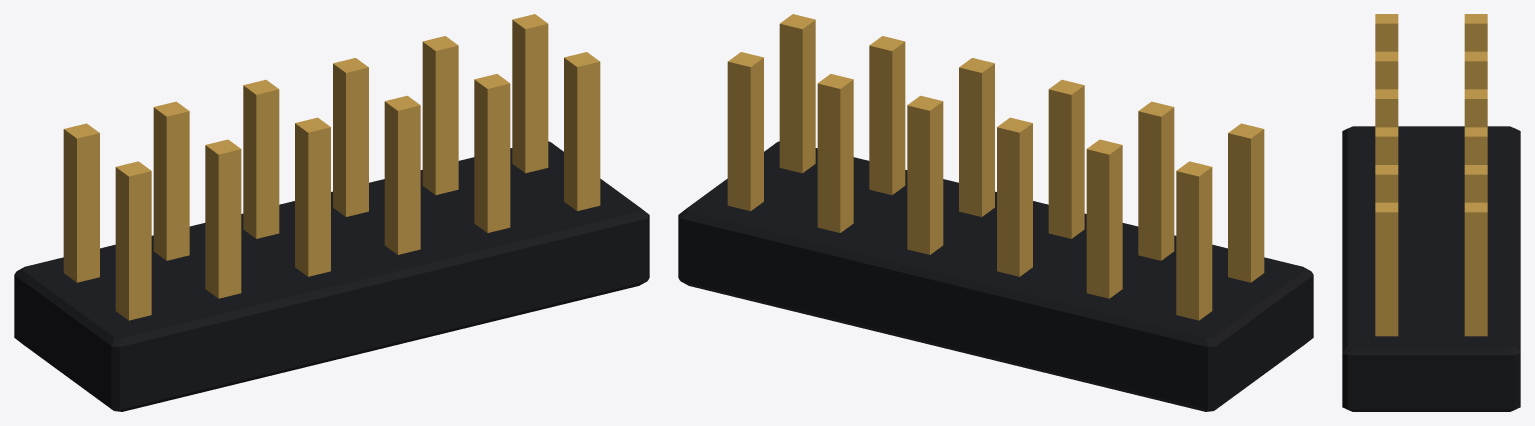
The model's file is L128_SPI_TPM.fbx.
3 views of the same model, side by side, from view 1: azimuth 30°, elevation 25°; view 2: azimuth 150°, elevation 25°; view 3: azimuth 270°, elevation 25° (orthographic). The views are drawn at different scales.
Parts seen in each view (by area): view 1: SPI_TPM__Plastic, SPI_TPM__Gold; view 2: SPI_TPM__Plastic, SPI_TPM__Gold; view 3: SPI_TPM__Plastic, SPI_TPM__Gold.
Boxes of the visible parts, x1=… form: SPI_TPM__Plastic: x1=14, y1=141, x2=649, y2=411; SPI_TPM__Gold: x1=63, y1=14, x2=600, y2=320; SPI_TPM__Plastic: x1=678, y1=141, x2=1313, y2=411; SPI_TPM__Gold: x1=727, y1=14, x2=1264, y2=320; SPI_TPM__Plastic: x1=1342, y1=126, x2=1520, y2=411; SPI_TPM__Gold: x1=1375, y1=14, x2=1487, y2=336.
Size of the model in its own units: 15.24 by 5.9 by 5.08.
